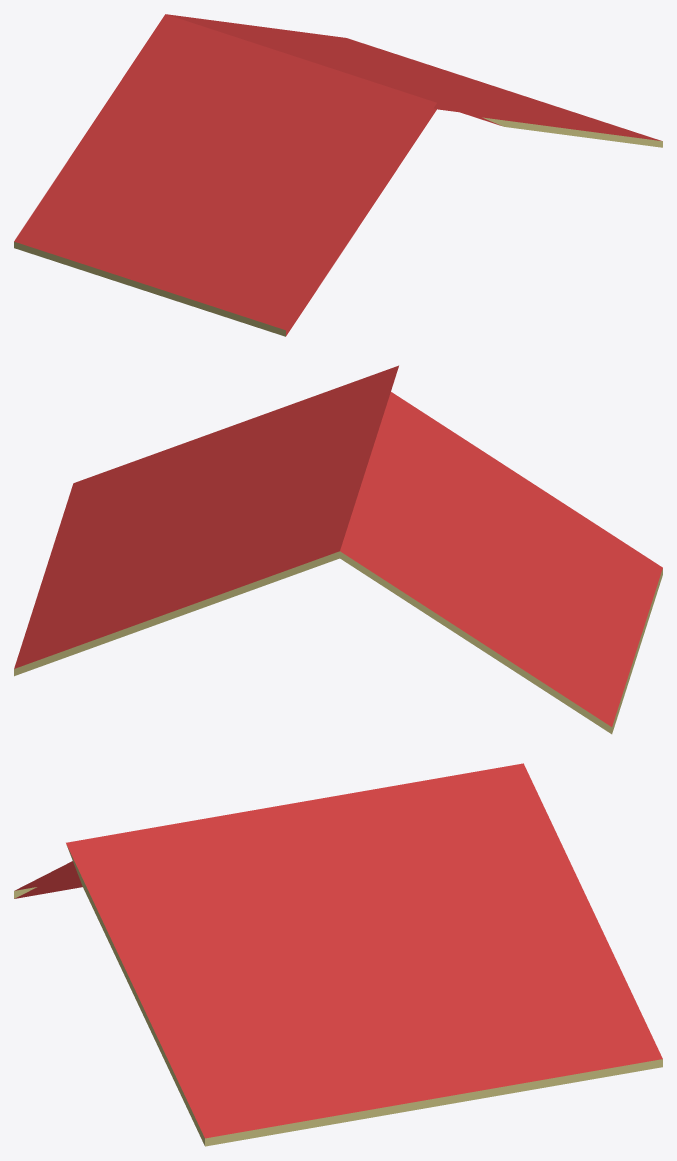
3 views of the same model, one above another, from view 1: azimuth 30°, elevation 25°; view 2: azimuth 150°, elevation 25°; view 3: azimuth 270°, elevation 25° (orthographic). The views are drawn at different scales.
Bounding box in the file's own units: 9.07 × 7.26 × 2.31.
